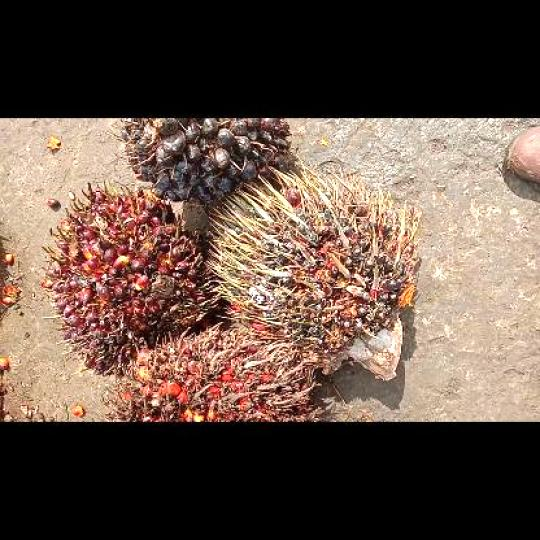masak: (43, 184, 214, 372)
terlalu masak: (112, 327, 327, 421)
